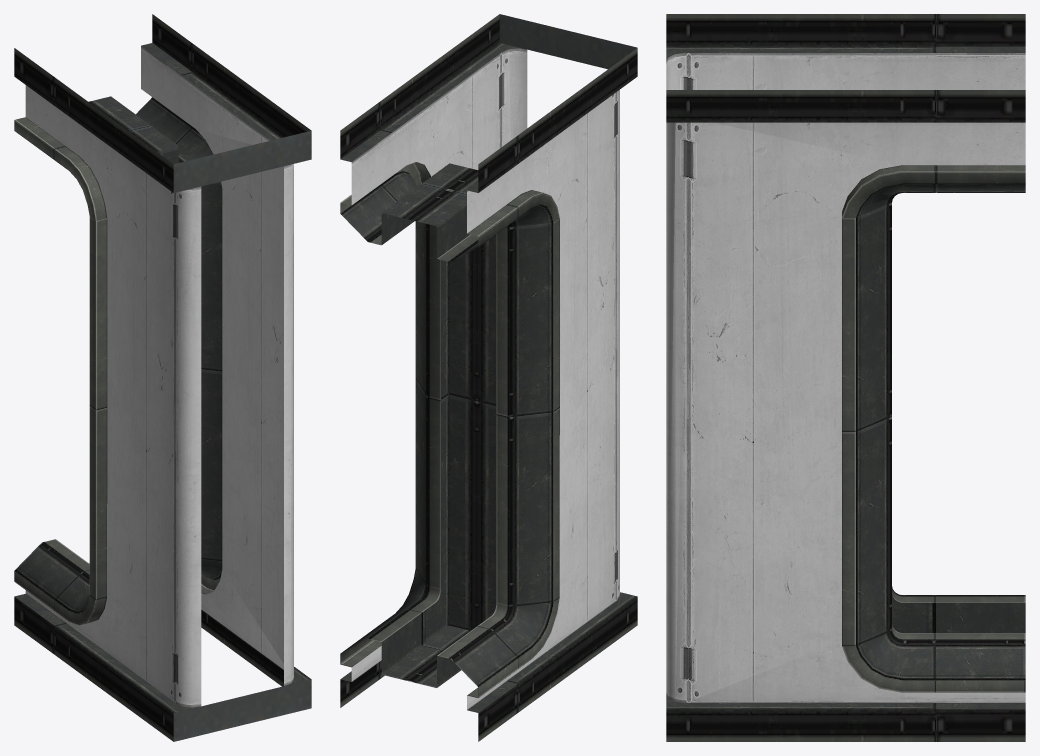
File: Neon_WindowFrameCap.FBX
The picture shows the model from 3 angles, left to right: view 1: azimuth 30°, elevation 25°; view 2: azimuth 150°, elevation 25°; view 3: azimuth 270°, elevation 25°; orthographic projection. The views are drawn at different scales.
Visible parts, largest first — view 1: Neon_WindowFrameCap; view 2: Neon_WindowFrameCap; view 3: Neon_WindowFrameCap.
Part boxes in pixels (bbox=[...]): Neon_WindowFrameCap: bbox=[14, 14, 311, 741]; Neon_WindowFrameCap: bbox=[340, 14, 637, 741]; Neon_WindowFrameCap: bbox=[666, 14, 1025, 741].
Size of the model in its own units: 1 by 4 by 2.
